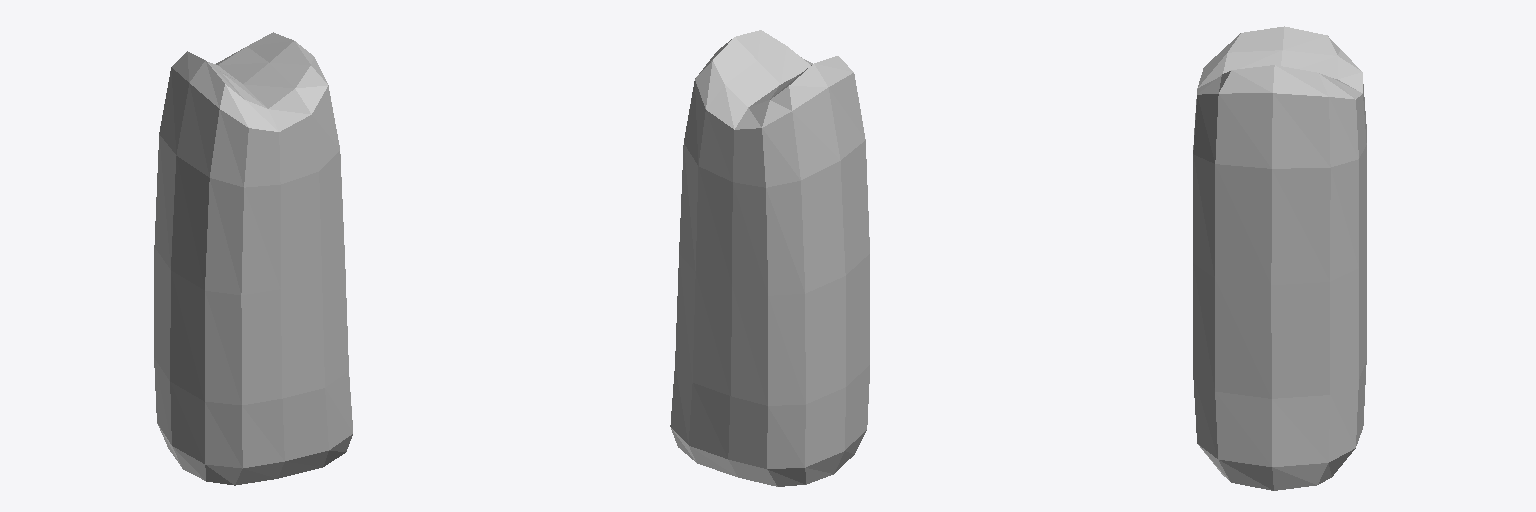
File: Porco-pataTD.obj
The picture shows the model from 3 angles: view 1: azimuth 30°, elevation 25°; view 2: azimuth 150°, elevation 25°; view 3: azimuth 270°, elevation 25°; orthographic projection.
Parts seen in each view (by area): view 1: Porco-pataTD_Cubo.001; view 2: Porco-pataTD_Cubo.001; view 3: Porco-pataTD_Cubo.001.
Part boxes in pixels (bbox=[...]): Porco-pataTD_Cubo.001: bbox=[154, 32, 352, 485]; Porco-pataTD_Cubo.001: bbox=[670, 30, 869, 486]; Porco-pataTD_Cubo.001: bbox=[1193, 26, 1366, 490].
Size of the model in its own units: 0.5769 by 1.4 by 0.5294.